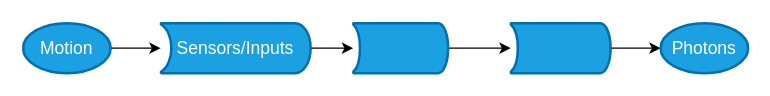
The diagram is 770 pixels wide and 96 high, and some of its shapes have lost their labels. Here are the shapes that lost their labels. From the top down, the centre of each, then its label:
At point 400,47: "Render".
At point 560,47: "Display".
